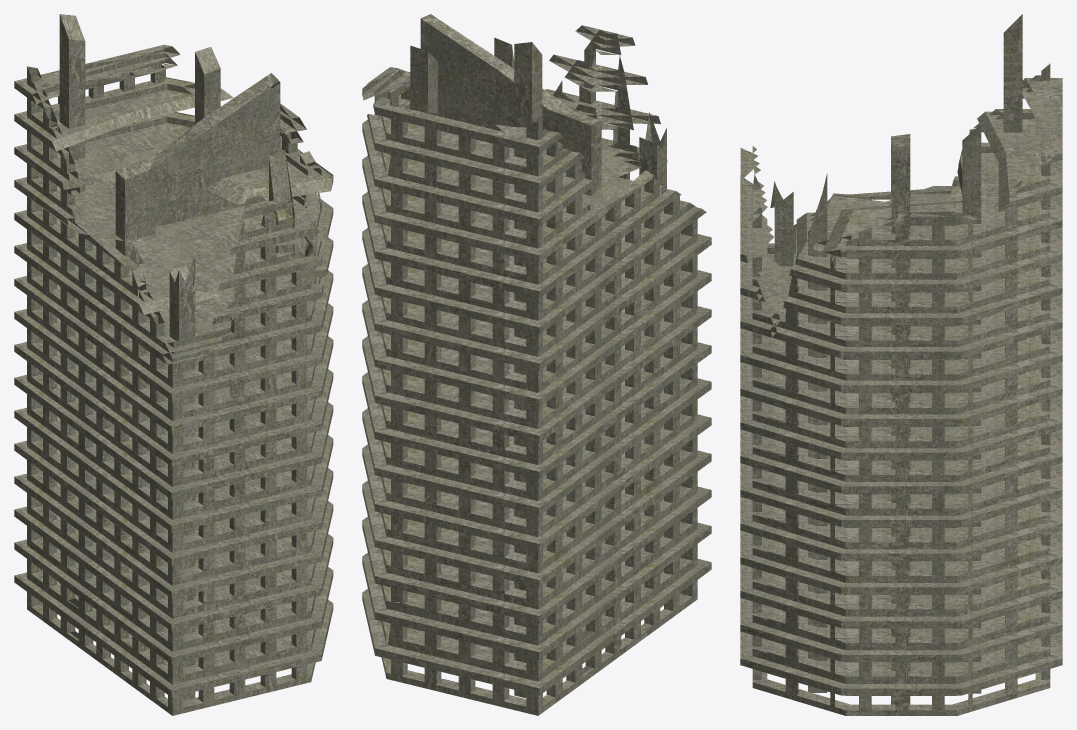
Rendered from yikinti_a.gltf.
3 renders of one model, left to right at view 1: azimuth 30°, elevation 25°; view 2: azimuth 150°, elevation 25°; view 3: azimuth 270°, elevation 25°, orthographic. The views are drawn at different scales.
Parts seen in each view (by area): view 1: yikinti_a; view 2: yikinti_a; view 3: yikinti_a.
Part boxes in pixels (x1=…): yikinti_a: x1=14, y1=14, x2=333, y2=715; yikinti_a: x1=362, y1=14, x2=711, y2=715; yikinti_a: x1=740, y1=14, x2=1062, y2=715.
Size of what is drawn, in the model's own units: 17.52 by 47.71 by 22.66.
1 material, 1 textured.
